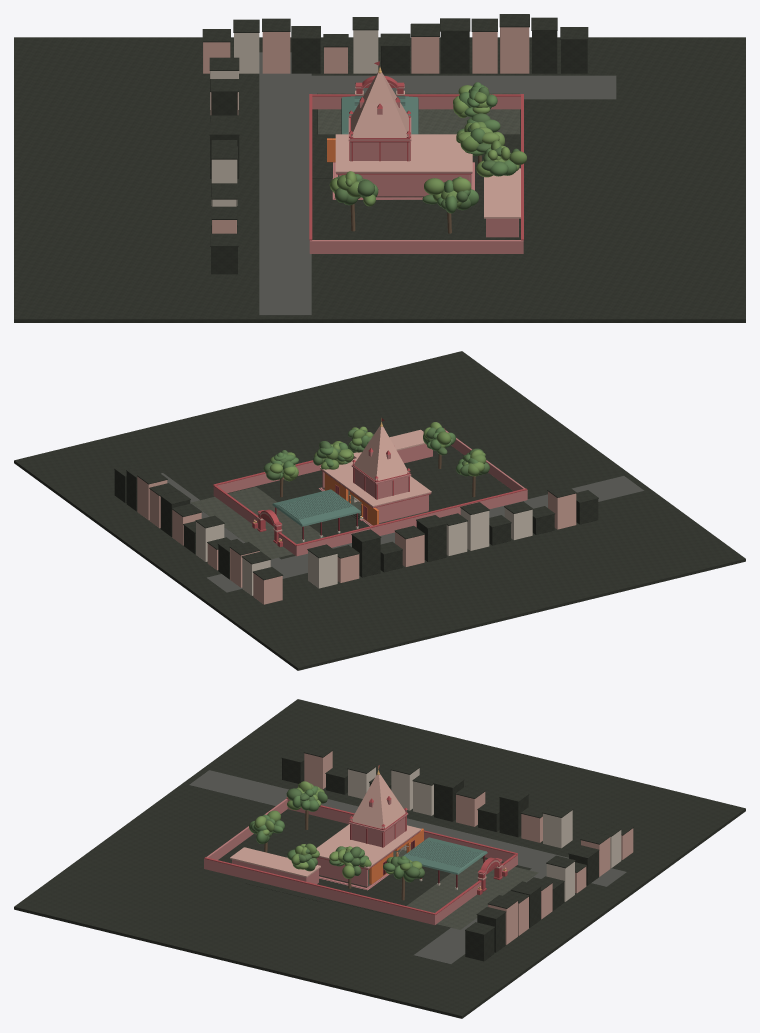
Rendered from prayag_madhaveswari_kshetra_full.glb.
The picture shows the model from 3 angles, top to bottom: view 1: azimuth 30°, elevation 25°; view 2: azimuth 150°, elevation 25°; view 3: azimuth 270°, elevation 25°; orthographic projection. The views are drawn at different scales.
Visible parts, largest first — view 1: Ground_Urban_Terrain, Alopibagh_Road_NW, Alopibagh_Road_NE, Sanctuary_Continuous_Flat_Roof.002, Far_Compound_Return, Alopi_Entry_Paving, Alopi_Return_Court, Alopi_Smooth_Spire, Alopi_Side_Service_Range_Roof, Sanctuary_Rear_Wall, Alopibagh_Urban_Context.005, Alopibagh_Urban_Context.009 (+20 smaller); view 2: Ground_Urban_Terrain, Alopi_Entry_Paving, Alopibagh_Road_NW, Alopi_Covered_Forecourt, Alopi_Main_Court, Side_Compound_Wall.001, Alopi_Smooth_Spire, Sanctuary_Continuous_Flat_Roof.002, Alopibagh_Urban_Context, Alopibagh_Urban_Context.014, Alopibagh_Urban_Context.004, Alopibagh_Urban_Context.022 (+15 smaller); view 3: Ground_Urban_Terrain, Alopibagh_Road_NW, Alopi_Entry_Paving, Side_Compound_Wall, Alopi_Covered_Forecourt, Alopi_Main_Court, Alopi_Smooth_Spire, Alopibagh_Road_NE, Sanctuary_Continuous_Flat_Roof.002, Alopi_Side_Service_Range_Roof, Side_Compound_Wall.001, Alopibagh_Urban_Context (+15 smaller).
Part boxes in pixels (left/top/right/bottom): Ground_Urban_Terrain: left=14, top=37, right=745, bottom=322; Alopibagh_Road_NW: left=259, top=52, right=311, bottom=315; Alopibagh_Road_NE: left=273, top=75, right=616, bottom=99; Sanctuary_Continuous_Flat_Roof.002: left=335, top=134, right=472, bottom=172; Far_Compound_Return: left=310, top=240, right=523, bottom=253; Alopi_Entry_Paving: left=317, top=93, right=519, bottom=134; Alopi_Return_Court: left=393, top=175, right=535, bottom=224; Alopi_Smooth_Spire: left=351, top=72, right=408, bottom=137; Alopi_Side_Service_Range_Roof: left=484, top=168, right=520, bottom=218; Sanctuary_Rear_Wall: left=339, top=174, right=469, bottom=196; Alopibagh_Urban_Context.005: left=500, top=27, right=529, bottom=73; Alopibagh_Urban_Context.009: left=440, top=31, right=469, bottom=73; Ground_Urban_Terrain: left=14, top=351, right=745, bottom=670; Alopi_Entry_Paving: left=191, top=487, right=324, bottom=559; Alopibagh_Road_NW: left=206, top=476, right=644, bottom=592; Alopi_Covered_Forecourt: left=272, top=489, right=360, bottom=526; Alopi_Main_Court: left=256, top=470, right=369, bottom=536; Side_Compound_Wall.001: left=296, top=490, right=526, bottom=556; Alopi_Smooth_Spire: left=354, top=426, right=408, bottom=480; Sanctuary_Continuous_Flat_Roof.002: left=319, top=458, right=431, bottom=506; Alopibagh_Urban_Context: left=308, top=550, right=337, bottom=588; Alopibagh_Urban_Context.014: left=460, top=508, right=489, bottom=550; Alopibagh_Urban_Context.004: left=352, top=535, right=380, bottom=577; Alopibagh_Urban_Context.022: left=548, top=491, right=576, bottom=529; Ground_Urban_Terrain: left=14, top=699, right=745, bottom=1018; Alopibagh_Road_NW: left=189, top=770, right=626, bottom=886; Alopi_Entry_Paving: left=407, top=858, right=538, bottom=929; Side_Compound_Wall: left=204, top=859, right=435, bottom=925; Alopi_Covered_Forecourt: left=404, top=837, right=487, bottom=874; Alopi_Main_Court: left=324, top=866, right=450, bottom=915; Alopi_Smooth_Spire: left=351, top=774, right=405, bottom=828; Alopibagh_Road_NE: left=414, top=858, right=550, bottom=964; Sanctuary_Continuous_Flat_Roof.002: left=316, top=824, right=421, bottom=868; Alopi_Side_Service_Range_Roof: left=230, top=847, right=320, bottom=877; Side_Compound_Wall.001: left=287, top=799, right=517, bottom=864; Alopibagh_Urban_Context: left=543, top=810, right=572, bottom=848.
Size of the model in its own units: 149 by 20.73 by 146.
31 materials, 3 textured.
